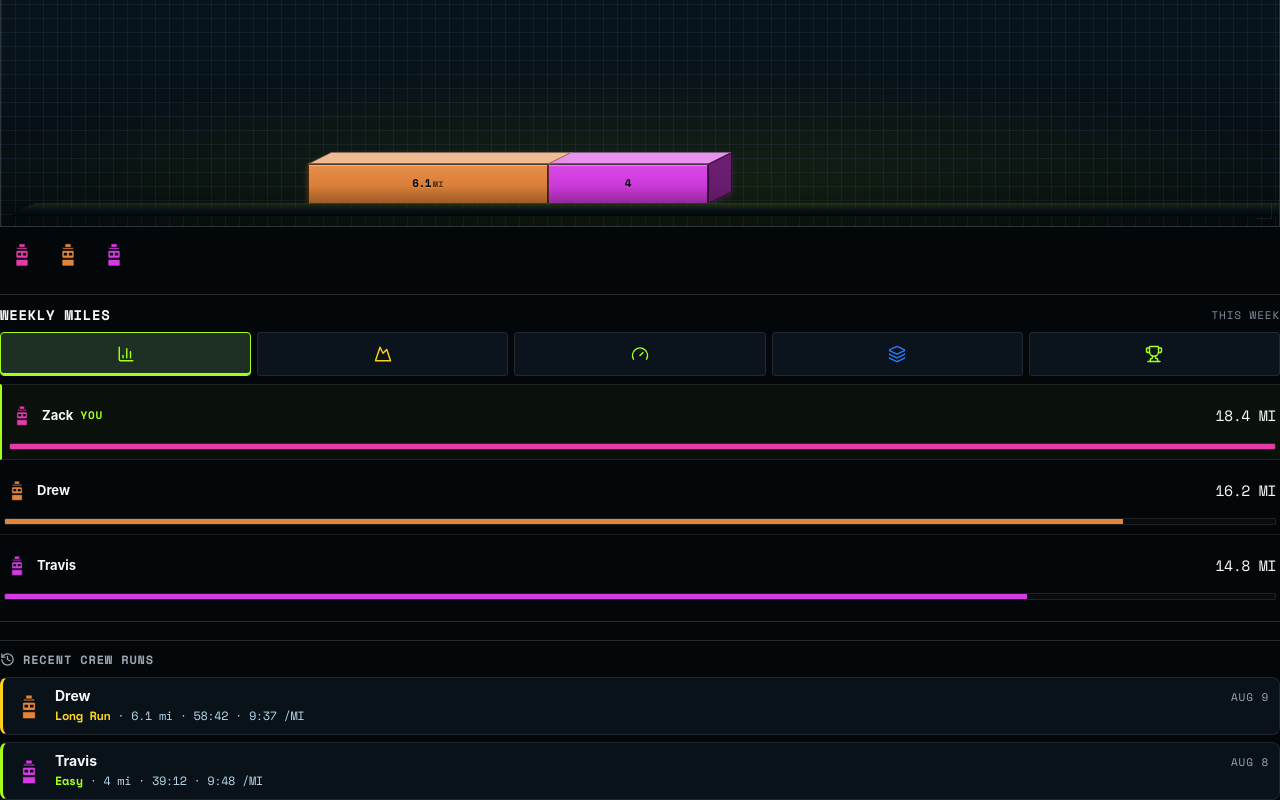
Test case: Crew comparisons and runs › never presents a false zero when Props data is unavailable
(page scrolled)
Click the button named "Open crew-safe run detail".
click(29, 706)  # box [3,678,1279,734]
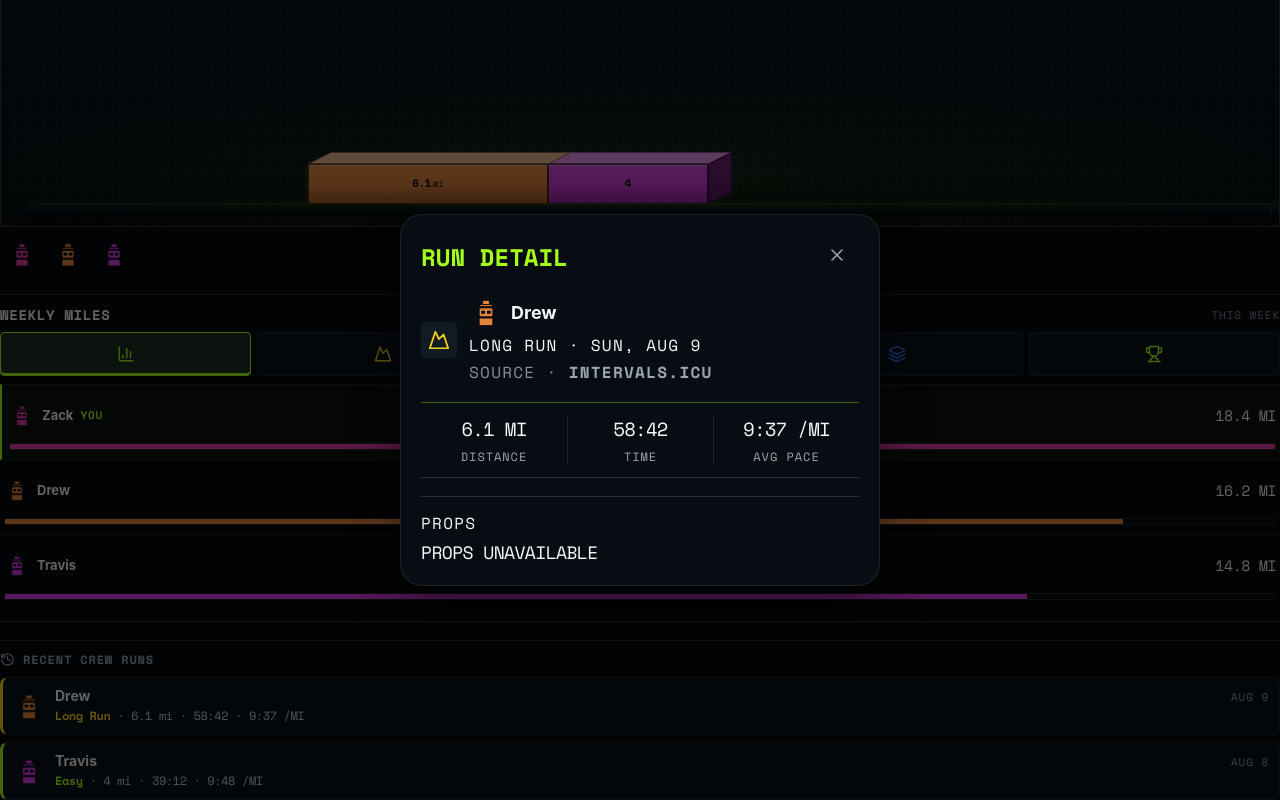
Now the text "Props unavailable" is shown, box [421,539,598,565]
